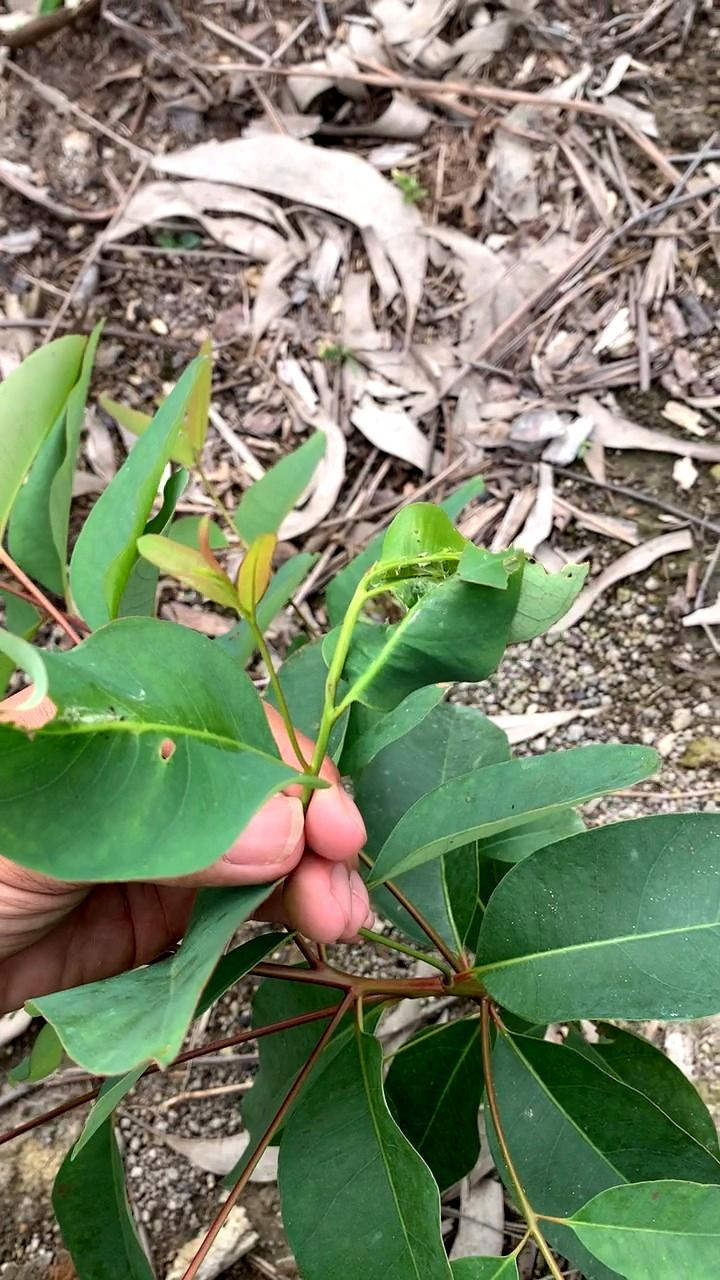Leaf Roller - Leaf: (0, 636, 300, 783), (348, 526, 575, 683)
